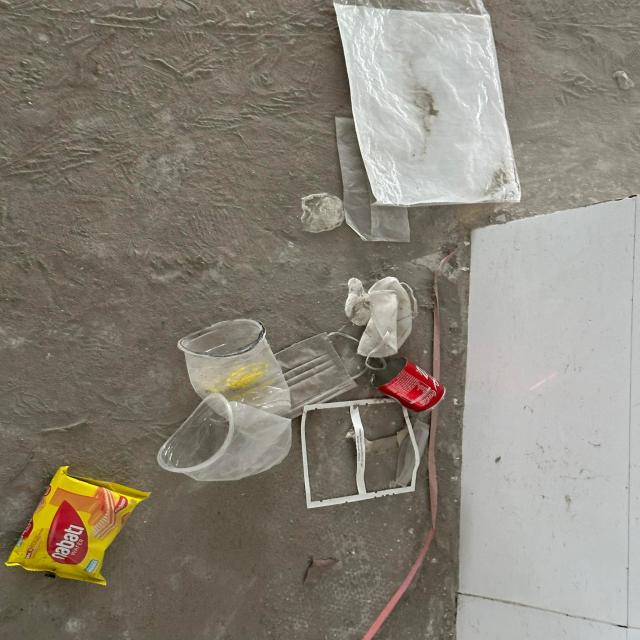bag: (333, 0, 524, 206)
can: (372, 357, 446, 412)
mask: (273, 330, 370, 420), (356, 276, 418, 371)
packet: (334, 116, 413, 243)
plastic glass: (158, 392, 292, 480), (178, 319, 292, 415)
snack package: (5, 464, 151, 585)
